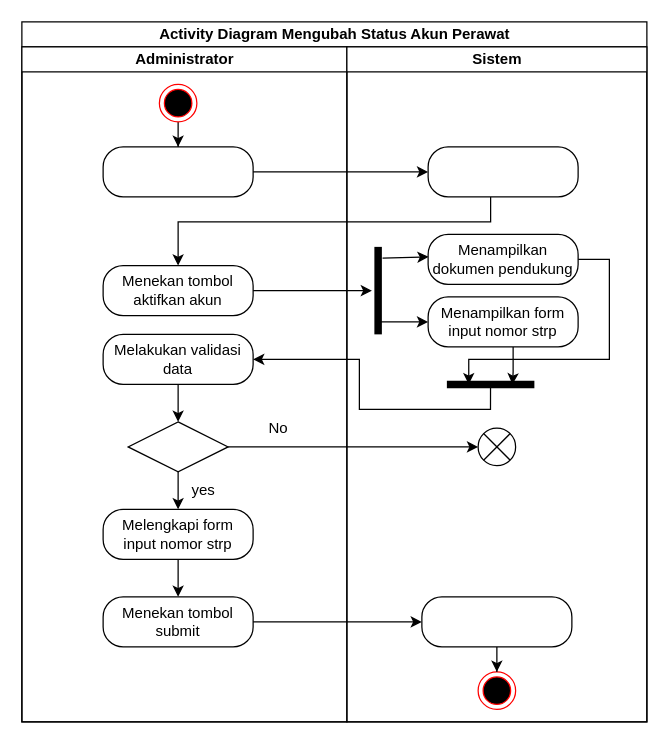
Image size: 669x744. Some labels were removed from this diagram. Each missing label, with the centre of its shape:
Memilih menu perawat: the point at 177,171
Menampilkan data perawat: the point at 502,171
Menyimpan data perawat: the point at 496,621
Valid?: the point at 177,446
